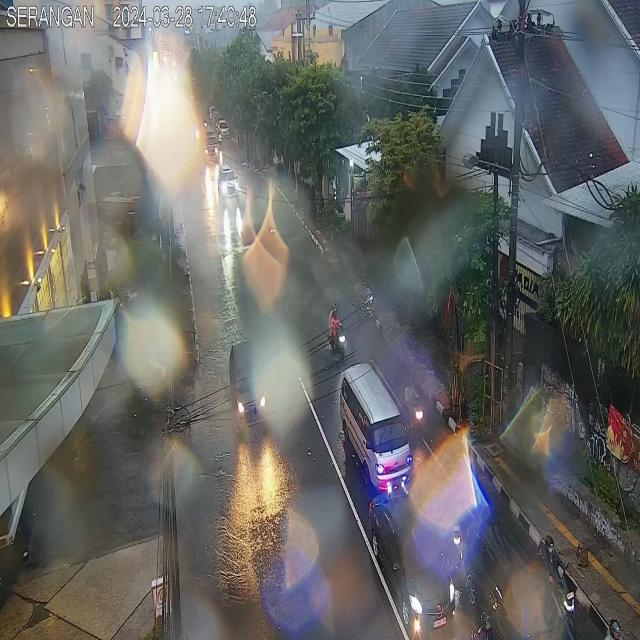car: (462, 505, 563, 640), (369, 485, 455, 640), (339, 361, 416, 499), (228, 341, 268, 437), (217, 164, 240, 202)
motorcycle: (536, 533, 577, 640), (400, 368, 424, 440), (328, 303, 347, 362)
